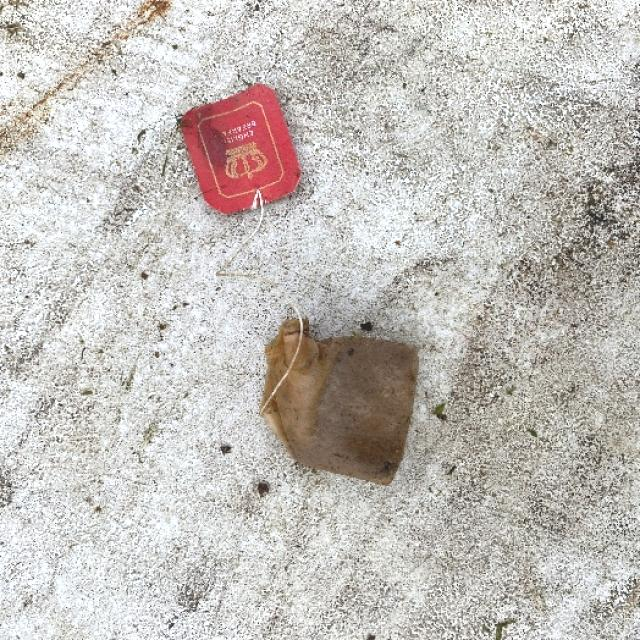inorganic: (174, 83, 300, 207)
organic: (268, 318, 416, 483)
